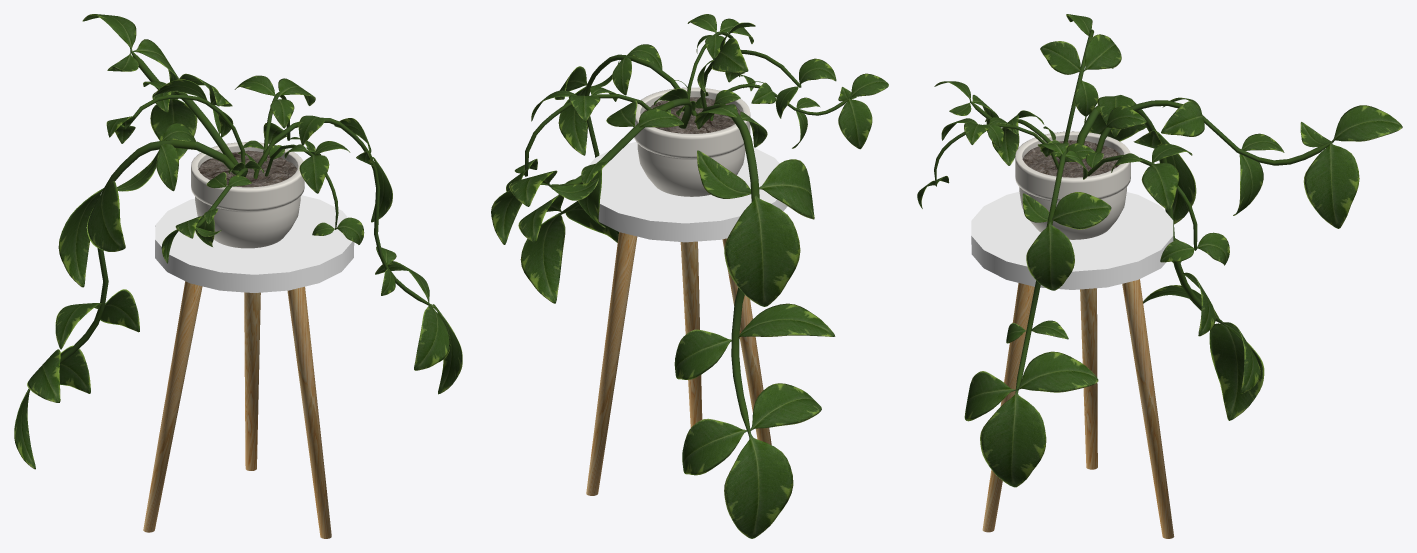
Rendered from potted_plant (1).glb.
3 renders of one model, left to right at view 1: azimuth 30°, elevation 25°; view 2: azimuth 150°, elevation 25°; view 3: azimuth 270°, elevation 25°, orthographic. The views are drawn at different scales.
Visible parts, largest first — view 1: Cylinder011_leaf_0, Cylinder016, Cylinder011_fl pot_0, Cylinder011_base for plant_0, Cylinder011_ear_0; view 2: Cylinder011_leaf_0, Cylinder016, Cylinder011_fl pot_0, Cylinder011_base for plant_0, Cylinder011_ear_0; view 3: Cylinder011_leaf_0, Cylinder016, Cylinder011_base for plant_0, Cylinder011_fl pot_0, Cylinder011_ear_0.
Boxes of the visible parts, left/top/right/bottom form: Cylinder011_leaf_0: left=14, top=14, right=462, bottom=469; Cylinder016: left=143, top=195, right=354, bottom=538; Cylinder011_fl pot_0: left=191, top=142, right=304, bottom=248; Cylinder011_base for plant_0: left=60, top=51, right=430, bottom=363; Cylinder011_ear_0: left=198, top=150, right=297, bottom=187; Cylinder011_leaf_0: left=491, top=14, right=888, bottom=538; Cylinder016: left=586, top=142, right=787, bottom=495; Cylinder011_fl pot_0: left=633, top=87, right=750, bottom=196; Cylinder011_base for plant_0: left=524, top=31, right=850, bottom=434; Cylinder011_ear_0: left=643, top=97, right=740, bottom=133; Cylinder011_leaf_0: left=917, top=14, right=1402, bottom=487; Cylinder016: left=971, top=192, right=1174, bottom=538; Cylinder011_base for plant_0: left=934, top=29, right=1332, bottom=392; Cylinder011_fl pot_0: left=1015, top=131, right=1130, bottom=239; Cylinder011_ear_0: left=1022, top=140, right=1120, bottom=177.
Bounding box in the file's own units: 0.215 × 0.2605 × 0.2547.
6 materials, 6 textured.
